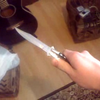knife: (15, 27, 68, 63)
